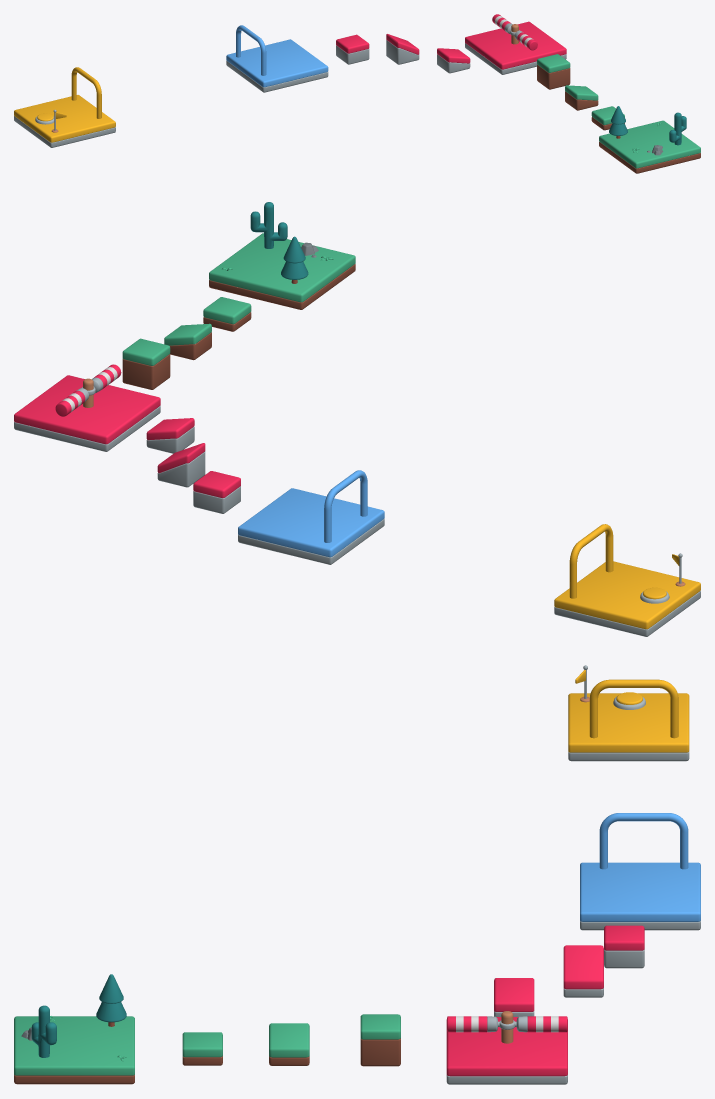
The model's file is playground.glb.
3 views of the same model, one above another, from view 1: azimuth 30°, elevation 25°; view 2: azimuth 150°, elevation 25°; view 3: azimuth 270°, elevation 25° (orthographic). The views are drawn at different scales.
Visible parts, largest first — view 1: tileLarge_teamBlue, tileLarge_teamYellow, tileLarge_forest, tileLarge_teamRed, tileHigh_forest, tileMedium_teamRed, tileSlopeLowHigh_teamRed, tileSlopeLowMedium_forest, tileSlopeLowMedium._teamRed, swiperDouble_teamRed, gateLargeWide_teamYellow, gateLargeWide_teamBlue (+3 smaller); view 2: tileLarge_teamBlue, tileLarge_teamYellow, tileLarge_teamRed, tileLarge_forest, tileHigh_forest, tileMedium_teamRed, tileSlopeLowHigh_teamRed, tileSlopeLowMedium._teamRed, tileSlopeLowMedium_forest, tileLow_forest, swiperDouble_teamRed, gateLargeWide_teamYellow (+3 smaller); view 3: tileLarge_teamBlue, tileLarge_forest, tileLarge_teamYellow, tileLarge_teamRed, tileSlopeLowHigh_teamRed, swiperDouble_teamRed, tileHigh_forest, tileMedium_teamRed, tileSlopeLowMedium_forest, gateLargeWide_teamYellow, gateLargeWide_teamBlue, tileSlopeLowMedium._teamRed (+3 smaller).
Part boxes in pixels (x1,y1,x2,y2): tileLarge_teamBlue: (226,39,328,92); tileLarge_teamYellow: (14,95,115,147); tileLarge_forest: (599,120,700,173); tileLarge_teamRed: (465,21,566,74); tileHigh_forest: (537,54,570,89); tileMedium_teamRed: (336,34,369,64); tileSlopeLowHigh_teamRed: (386,34,419,64); tileSlopeLowMedium_forest: (565,85,598,110); tileSlopeLowMedium._teamRed: (437,48,470,73); swiperDouble_teamRed: (492,14,537,50); gateLargeWide_teamYellow: (71,67,101,118); gateLargeWide_teamBlue: (236,25,266,75); tileLarge_teamBlue: (238,488,384,564); tileLarge_teamYellow: (554,561,700,636); tileLarge_teamRed: (14,375,160,451); tileLarge_forest: (209,233,355,309); tileHigh_forest: (122,338,170,389); tileMedium_teamRed: (193,471,240,513); tileSlopeLowHigh_teamRed: (157,443,205,487); tileSlopeLowMedium._teamRed: (146,418,194,453); tileSlopeLowMedium_forest: (164,323,211,360); tileLow_forest: (203,297,251,331); swiperDouble_teamRed: (55,364,121,416); gateLargeWide_teamYellow: (569,524,613,598); tileLarge_teamBlue: (580,862,700,930); tileLarge_forest: (14,1016,134,1084); tileLarge_teamYellow: (568,693,689,761); tileLarge_teamRed: (446,1017,567,1084); tileSlopeLowHigh_teamRed: (563,945,603,997); swiperDouble_teamRed: (447,1011,567,1043); tileHigh_forest: (360,1014,400,1066); tileMedium_teamRed: (604,925,644,968); tileSlopeLowMedium_forest: (269,1023,309,1065); gateLargeWide_teamYellow: (589,679,678,738); gateLargeWide_teamBlue: (599,813,688,869); tileSlopeLowMedium._teamRed: (494,978,534,1016).
Size of the model in its own units: 43.92 by 4.08 by 34.03.
